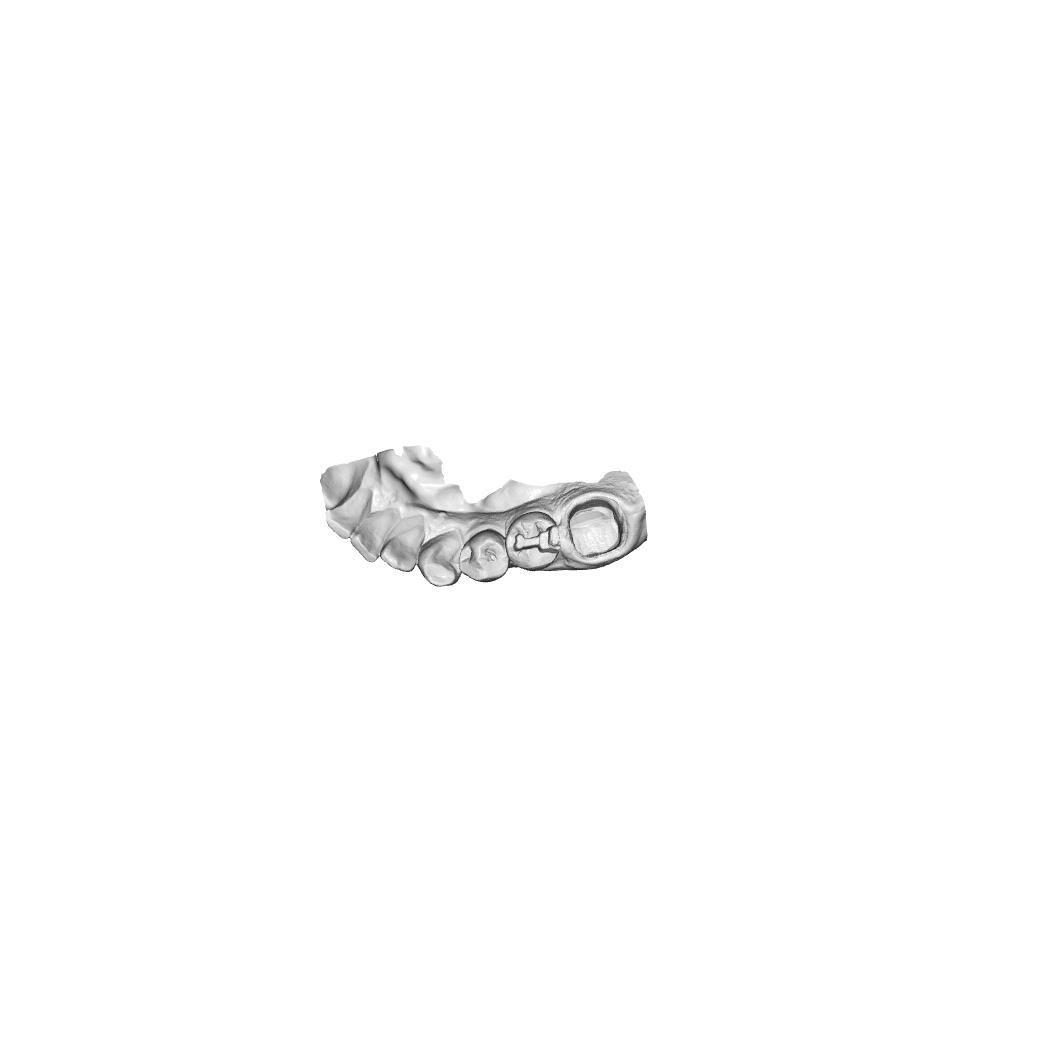canine: (417, 529, 466, 589)
crown: (567, 497, 623, 560)
incisor: (318, 458, 369, 511), (323, 487, 373, 540), (378, 525, 427, 574), (349, 510, 391, 564)
inlay: (509, 520, 562, 559)
premolar: (458, 527, 513, 584)
